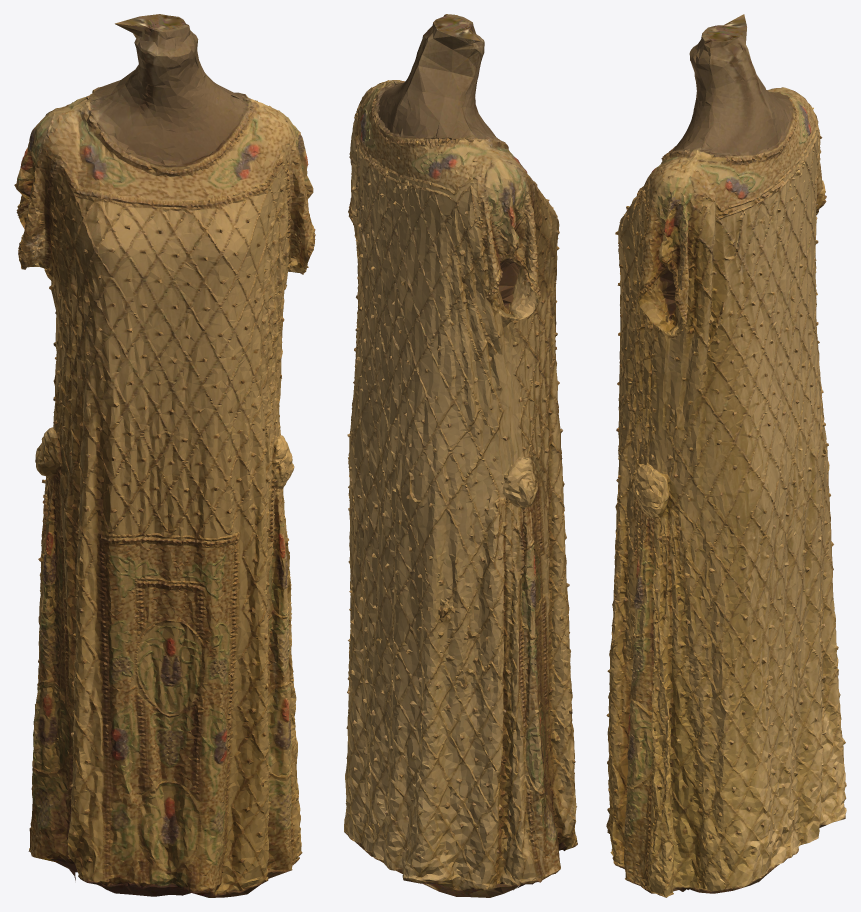
3 views of the same model, side by side, from view 1: azimuth 30°, elevation 25°; view 2: azimuth 150°, elevation 25°; view 3: azimuth 270°, elevation 25° (orthographic). The views are drawn at different scales.
Parts seen in each view (by area): view 1: display; view 2: display; view 3: display.
Part boxes in pixels (left/top/right/bottom): display: left=14, top=14, right=315, bottom=897; display: left=344, top=14, right=577, bottom=897; display: left=606, top=14, right=846, bottom=897.
Bounding box in the file's own units: 6.99 × 23.03 × 6.11.
Materials: 1 (1 with a texture image).
